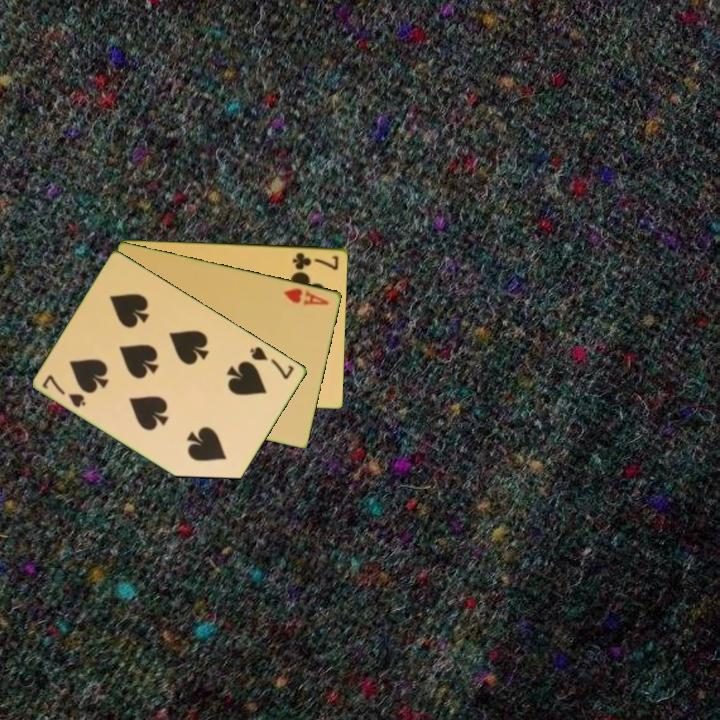7c: (289, 249, 341, 272)
7s: (246, 343, 298, 382), (39, 371, 89, 410)
Ah: (280, 284, 332, 308)
